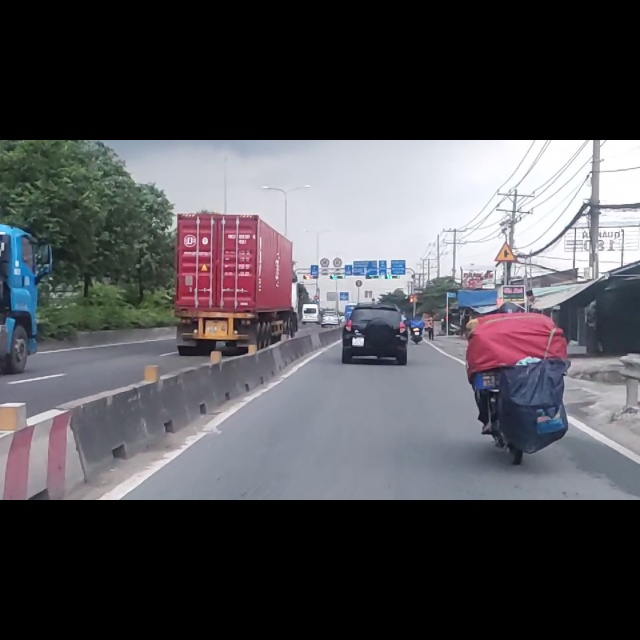bien_cam: (495, 181, 518, 218)
